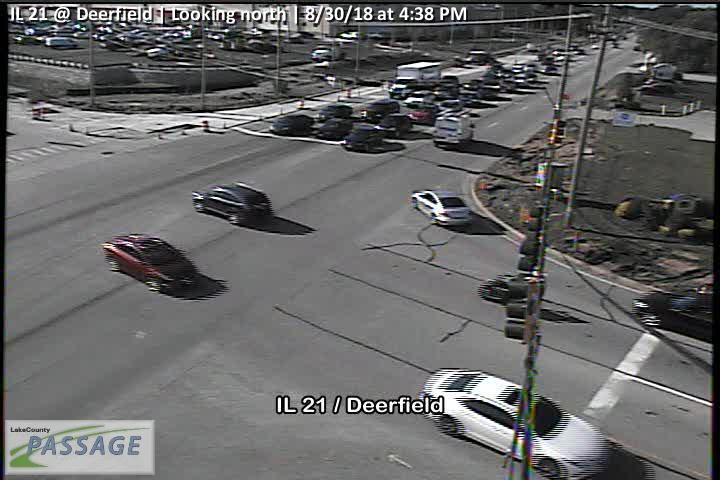SUV: (193, 183, 271, 227)
Sedan: (418, 368, 608, 480), (102, 235, 198, 296), (633, 283, 714, 341), (410, 187, 473, 228), (340, 125, 384, 150), (270, 115, 311, 137), (315, 117, 349, 139), (379, 113, 411, 136), (316, 103, 353, 121)
Truck: (431, 111, 473, 147)
